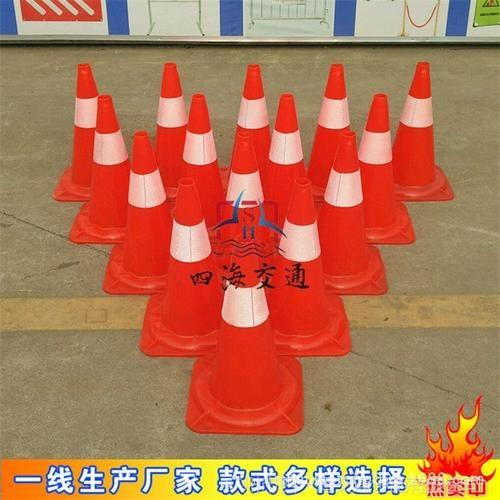cone_barrel: (195, 236, 304, 435), (142, 180, 224, 360), (267, 173, 346, 352), (110, 136, 175, 295), (316, 130, 376, 290), (389, 64, 453, 200), (79, 98, 135, 242), (219, 64, 271, 217), (354, 92, 401, 236), (306, 62, 354, 191), (261, 92, 310, 214), (55, 64, 99, 196), (176, 93, 222, 216), (148, 62, 189, 181)
